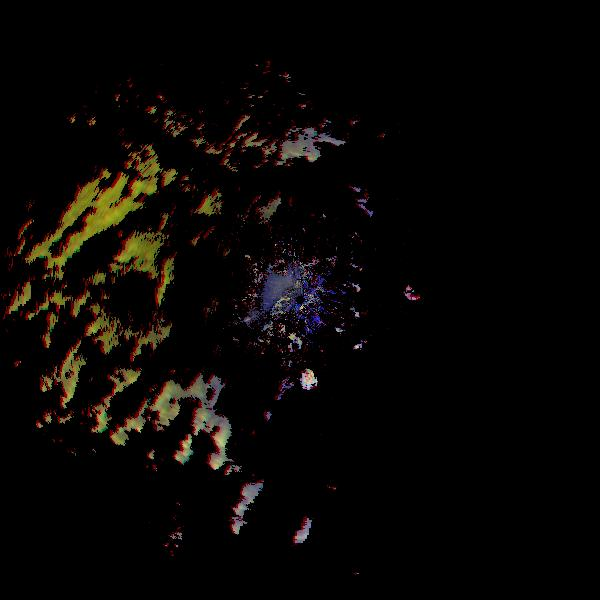roost: (295, 366, 325, 396), (403, 283, 424, 304), (350, 340, 365, 355)
